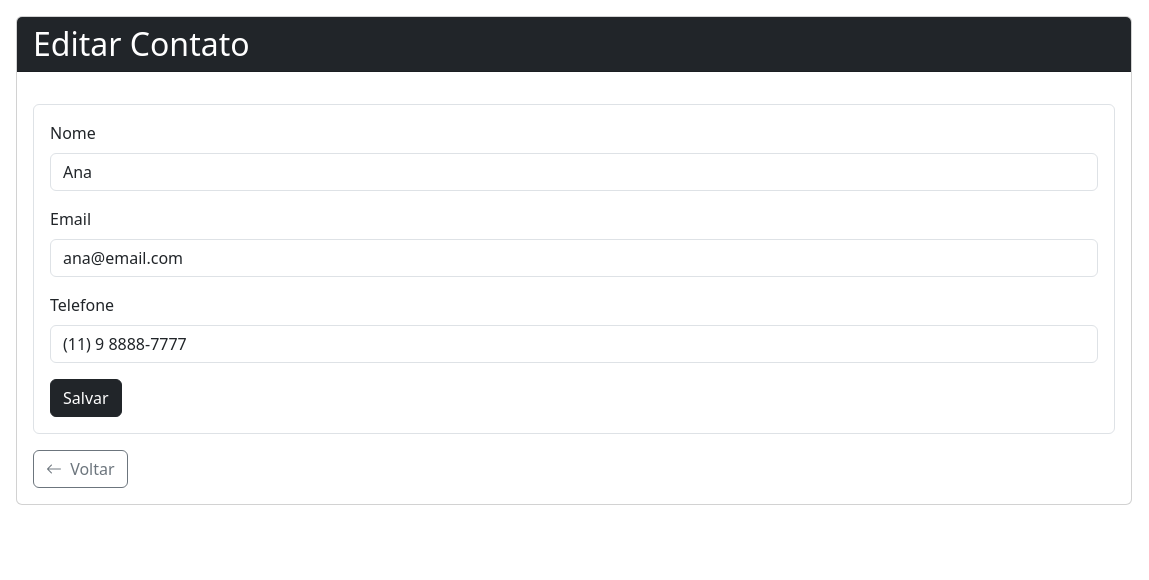
Test: EditContact › exibe mensagem de erro se falhar ao atualizar
Replace the text in the field showing "Ana" with "Ana Maria" at (574, 172), box top-left (50, 153), bottom-right (1098, 191)
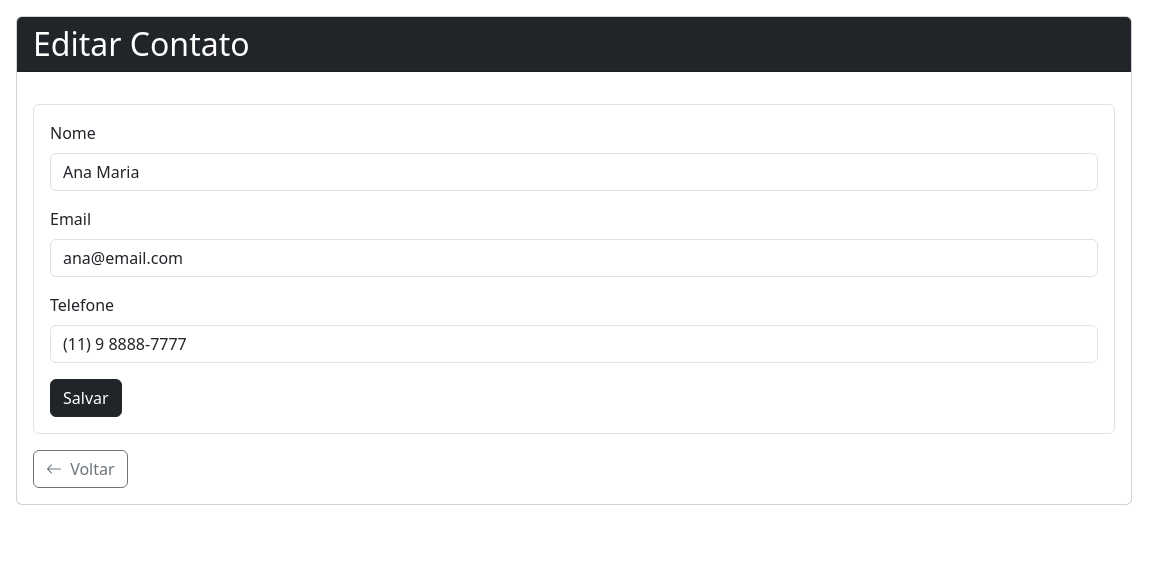
Click the button "Salvar" at (86, 398), box top-left (50, 379), bottom-right (122, 417)
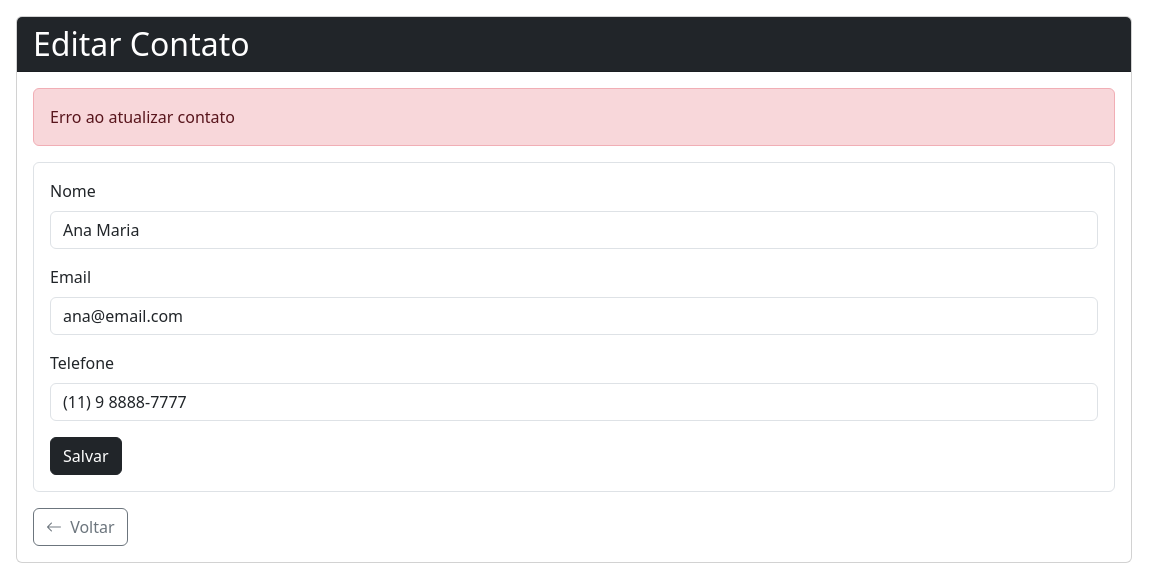
Result: the text "Erro ao atualizar contato" is shown at top-left (33, 88), bottom-right (1115, 146)
